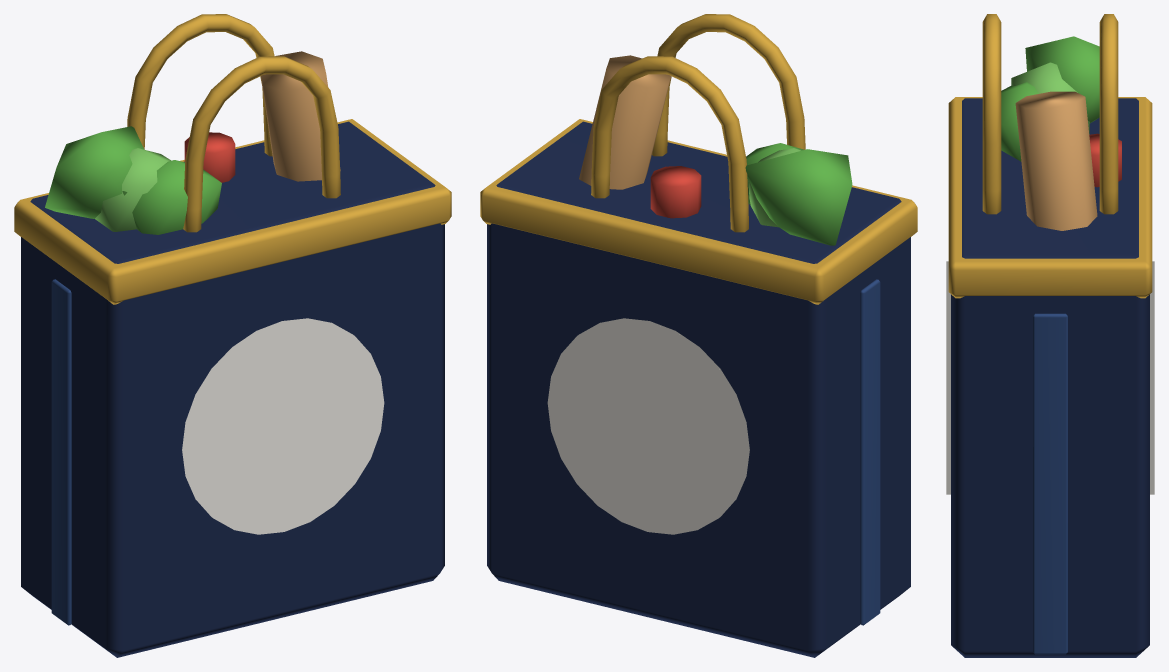
Rendered from RedeBag.fbx.
3 renders of one model, left to right at view 1: azimuth 30°, elevation 25°; view 2: azimuth 150°, elevation 25°; view 3: azimuth 270°, elevation 25°, orthographic.
Parts seen in each view (by area): view 1: RedeBag_Body.003; view 2: RedeBag_Body.003; view 3: RedeBag_Body.003.
Boxes of the visible parts, x1,y1,x2,y2 form: RedeBag_Body.003: (14, 14, 451, 657); RedeBag_Body.003: (480, 14, 917, 657); RedeBag_Body.003: (946, 14, 1154, 657).
Bounding box in the file's own units: 0.348 × 0.5269 × 0.178.
